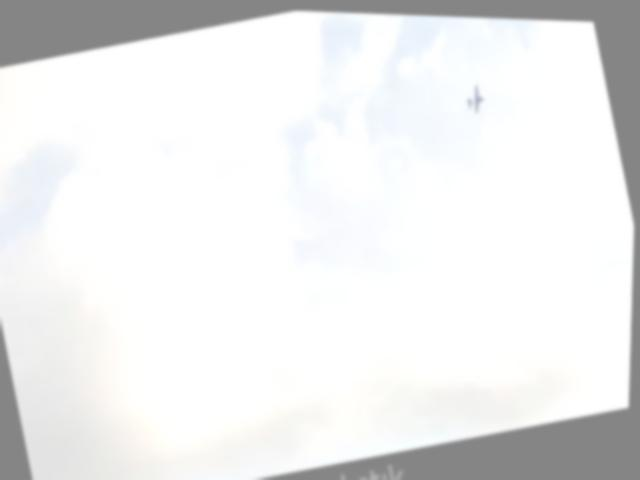uav: (453, 68, 494, 119)
